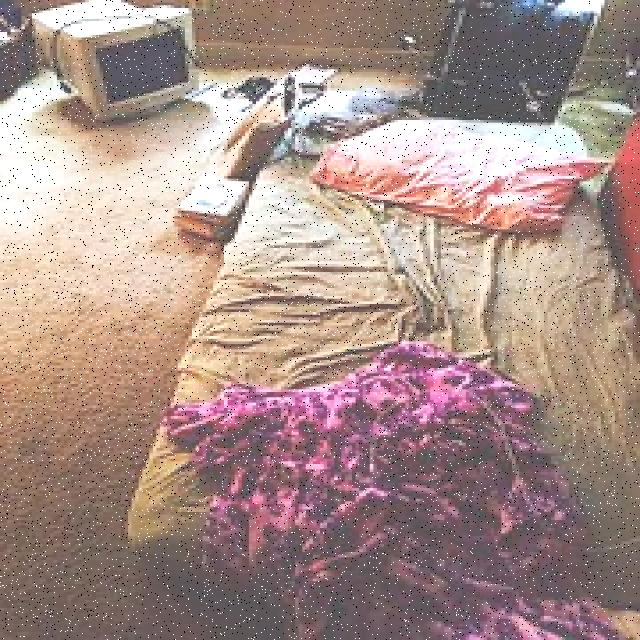bed: (202, 80, 640, 640)
